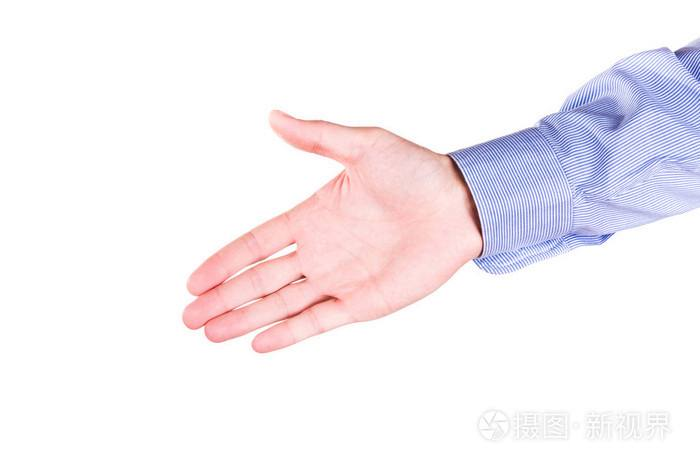no-phone: (174, 105, 466, 356)
